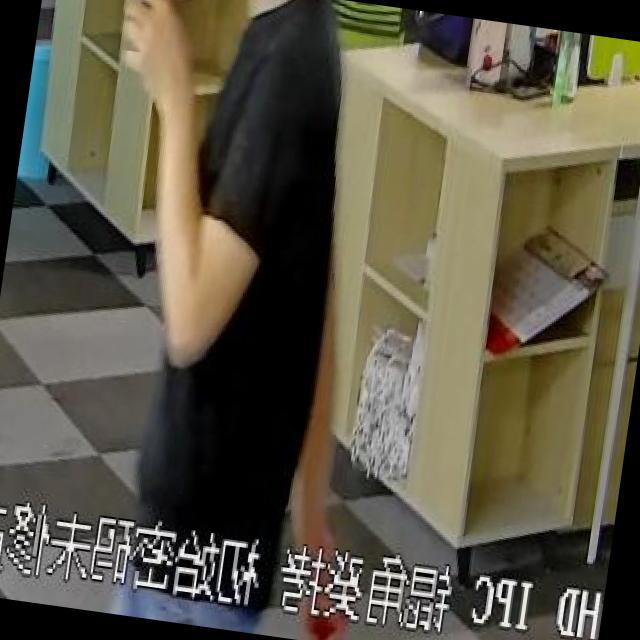Guns: (37, 0, 214, 55)
